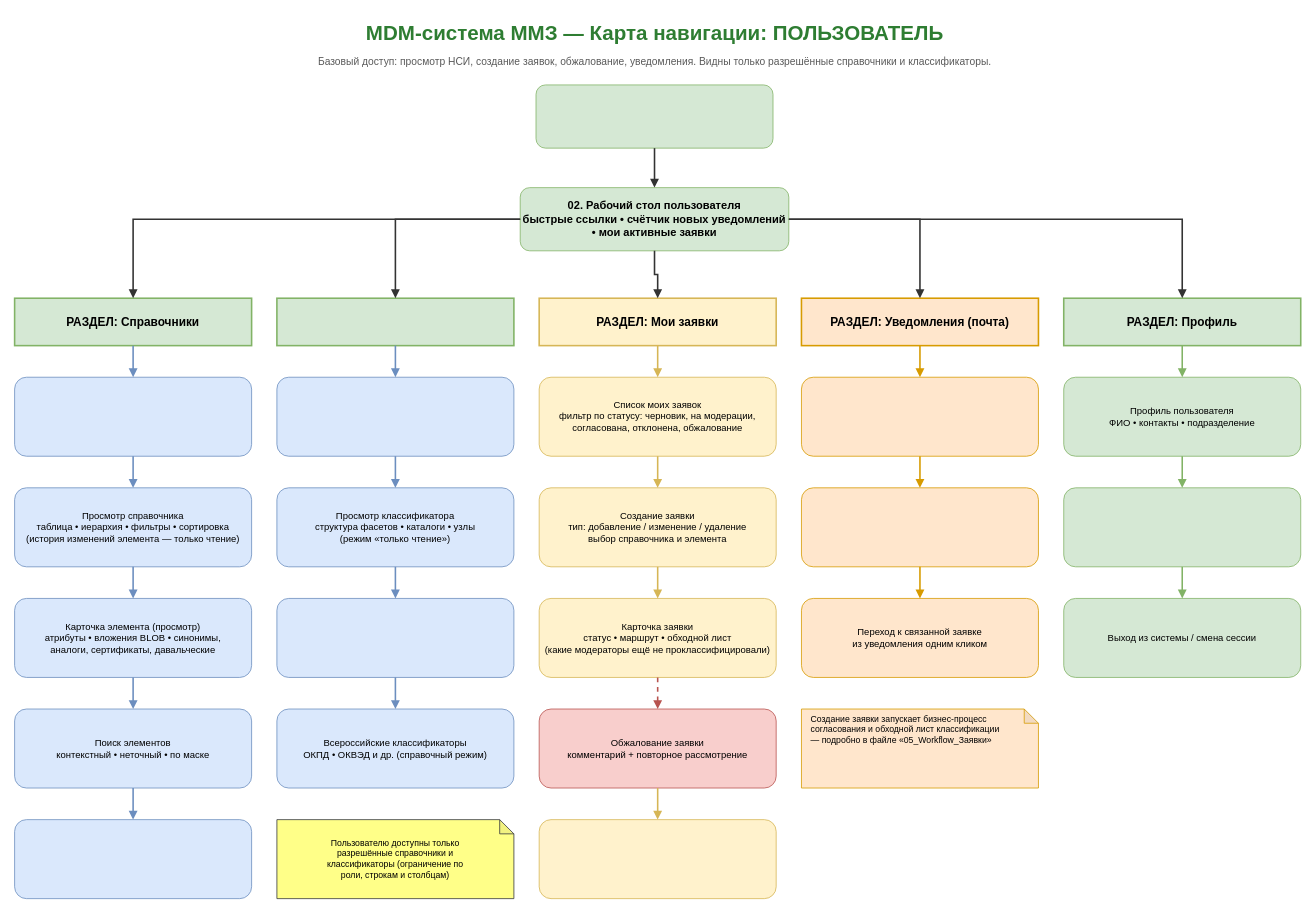
Some shapes in this 1315 by 912 pixel diagram are drawn without their labels. Here are the shapes that lost their labels. From the top down, the box of each, then its label:
(535, 84, 773, 148): 01. Экран входа Логин / пароль • Внешняя авторизация LDAP
(276, 297, 514, 346): РАЗДЕЛ: Классификаторы
(14, 376, 252, 456): Список доступных справочников (сгруппированы по системам: 1С / АСУ / Imbase)
(276, 376, 514, 456): Список доступных классификаторов
(801, 376, 1038, 456): Входящие уведомления непрочитанные • все • архив
(801, 487, 1038, 567): Карточка уведомления текст • дата • статус заявки
(1063, 487, 1301, 567): Смена пароля с учётом парольной политики (сложность, период, уникальность)
(276, 598, 514, 677): Расшифровка шифра выбор каталога + шифр → результат: расшифровка фасетов
(14, 819, 252, 899): Сопоставление элементов и сверка с внешними НСИ (Техэксперт, ФНС, Аршин, Кладар)
(538, 819, 776, 899): Отзыв / редактирование своей заявки до начала проверки
